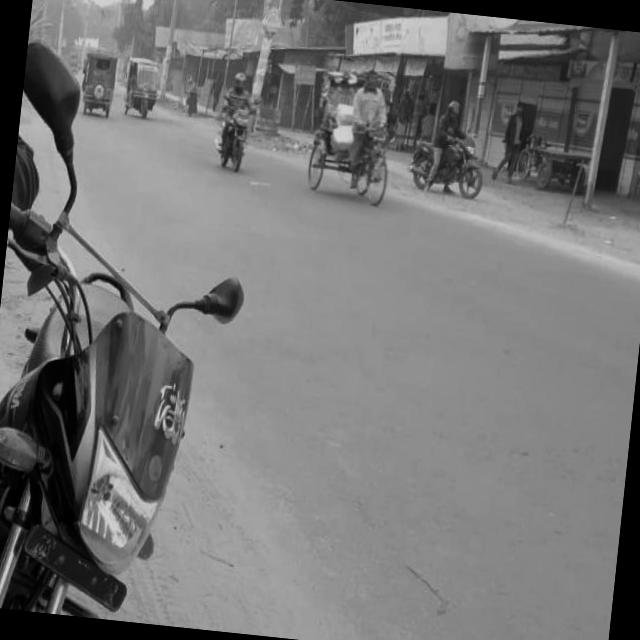motorcycle: (0, 35, 268, 627), (303, 64, 397, 204), (410, 128, 484, 193), (212, 68, 254, 170), (78, 47, 118, 114), (120, 54, 158, 114)
